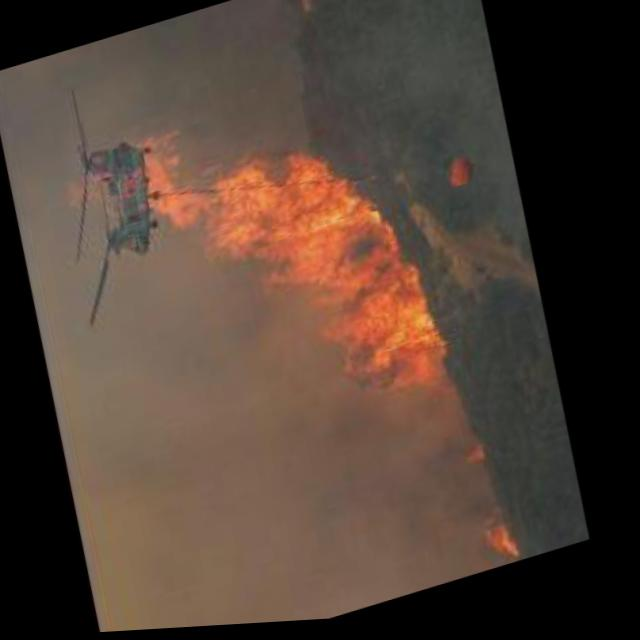Fire: (116, 57, 477, 473), (480, 515, 530, 575), (463, 445, 493, 473)
